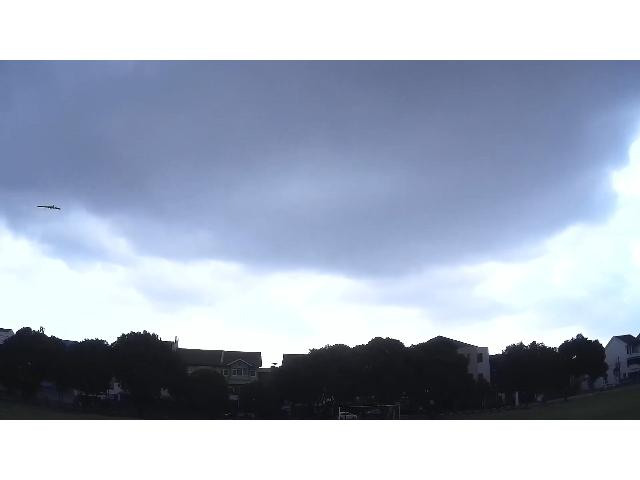Anti-Drone: (36, 205, 62, 209)
